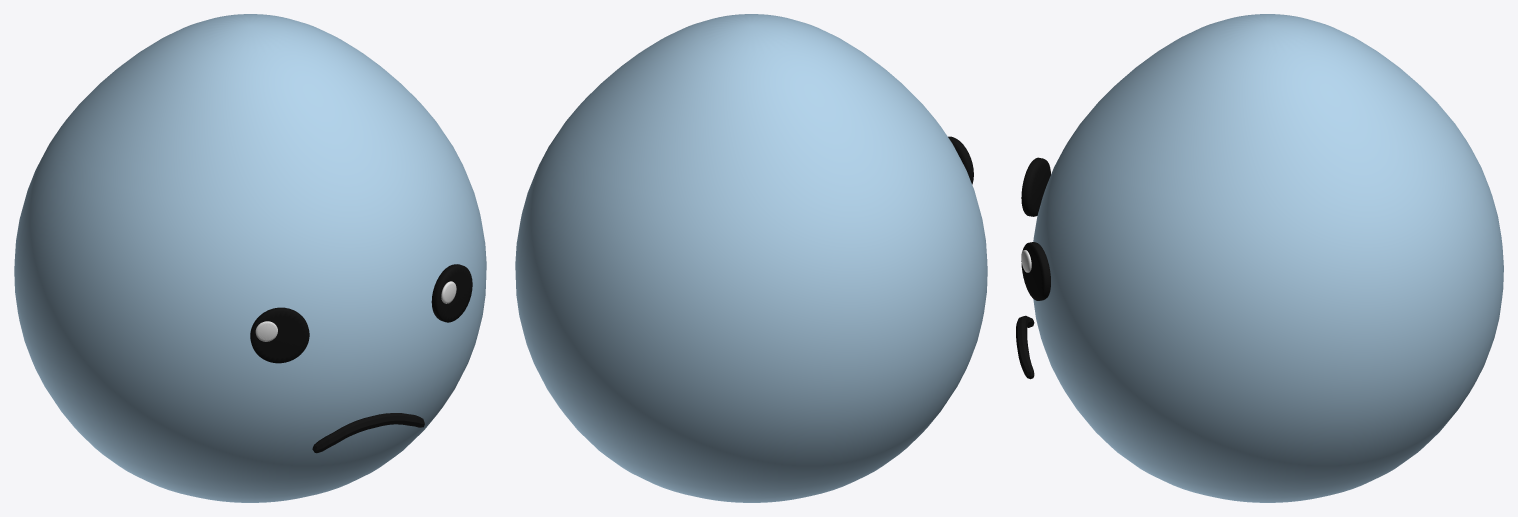
File: ch2_sad.fbx
3 views of the same model, side by side, from view 1: azimuth 30°, elevation 25°; view 2: azimuth 150°, elevation 25°; view 3: azimuth 270°, elevation 25° (orthographic).
Parts seen in each view (by area): view 1: Sphere.007; view 2: Sphere.007; view 3: Sphere.007.
Part boxes in pixels (x1,y1,x2,y2): Sphere.007: (14,14,486,502); Sphere.007: (515,14,987,502); Sphere.007: (1016,14,1503,502).
Bounding box in the file's own units: 51.03 × 53.61 × 52.68.
